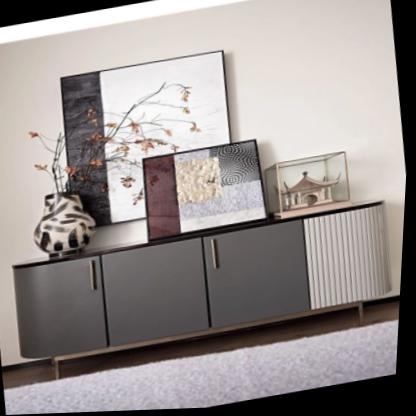Sideboard: (15, 203, 396, 381)
